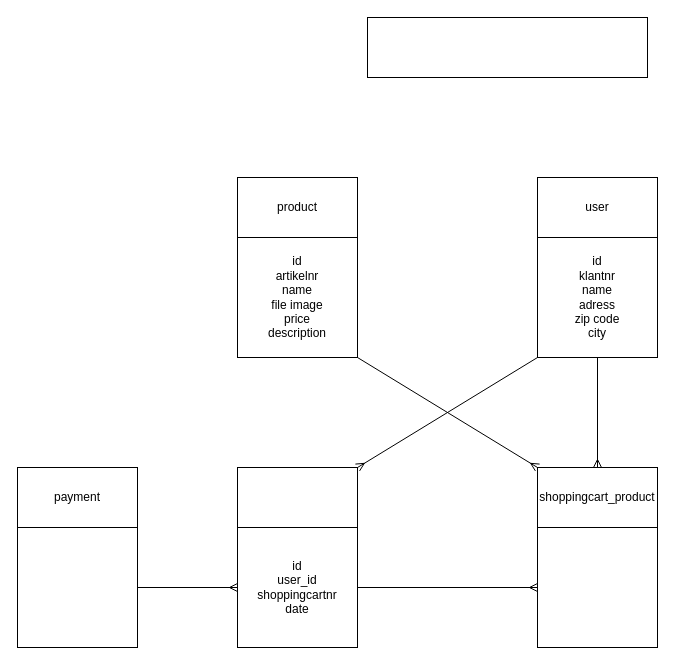
The diagram is 675 pixels wide and 665 high, and some of its shapes have lost their labels. Here are the shapes that lost their labels. From the top down, the centre of each, then its label:
At (x=507, y=47): "ERD Webshop".
At (x=297, y=497): "shoppingcart".
At (x=77, y=587): "id user_id shoppingcart_id total_price".
At (x=597, y=587): "id shoppingcart_id artikel_id amount price".
